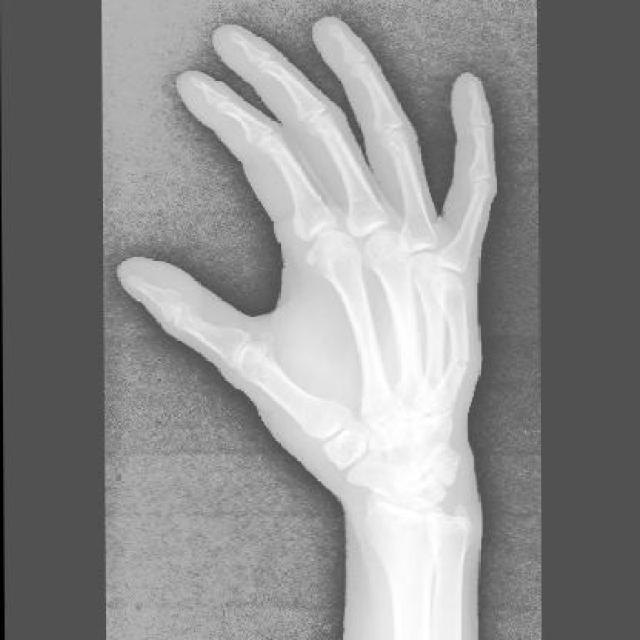Fracture: (449, 350, 474, 373)
